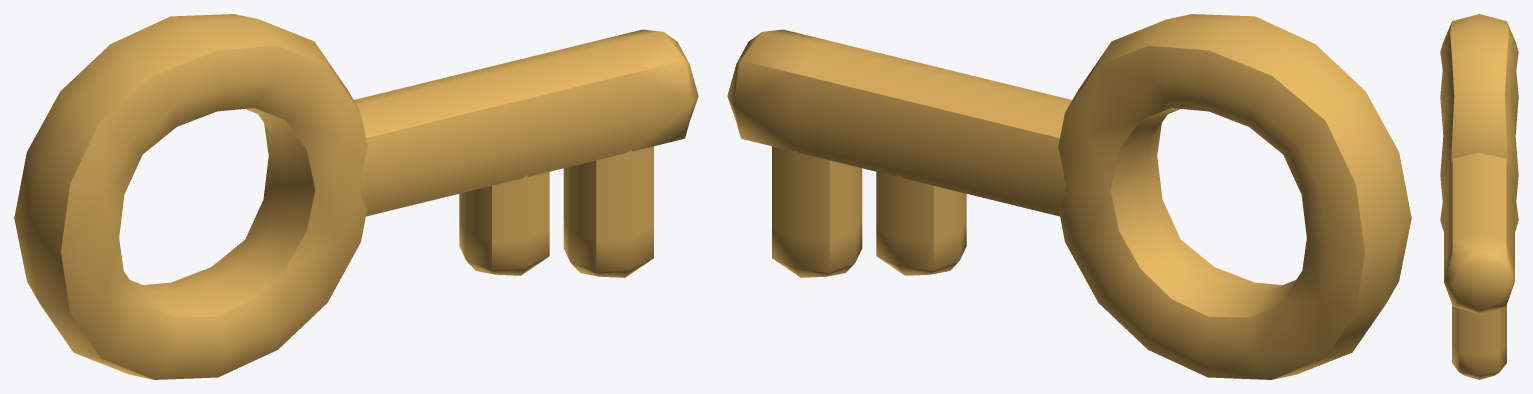
The model's file is Key.gltf.
3 views of the same model, side by side, from view 1: azimuth 30°, elevation 25°; view 2: azimuth 150°, elevation 25°; view 3: azimuth 270°, elevation 25° (orthographic). The views are drawn at different scales.
Visible parts, largest first — view 1: Key; view 2: Key; view 3: Key.
Part boxes in pixels (bbox=[...]): Key: bbox=[14, 14, 698, 379]; Key: bbox=[727, 14, 1411, 379]; Key: bbox=[1440, 14, 1518, 379].
Bounding box in the file's own units: 1.93 × 0.9819 × 0.3177.
